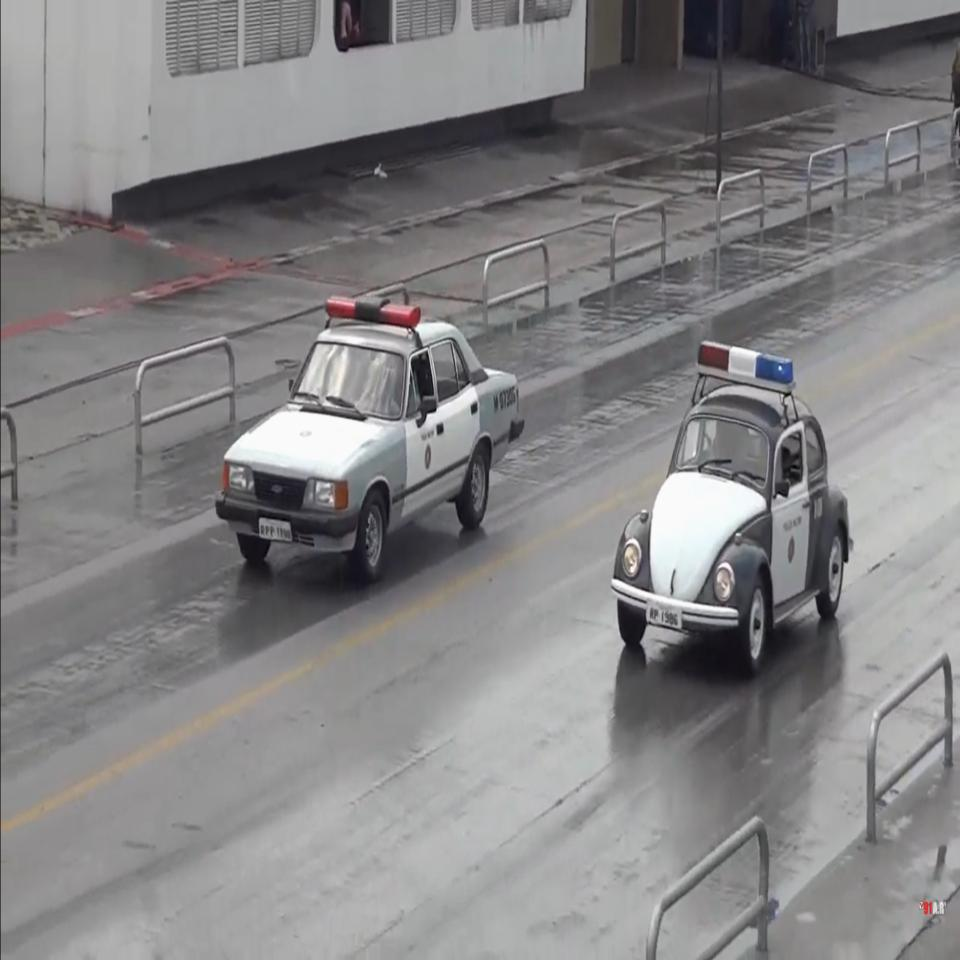viatura: (214, 292, 526, 586), (606, 337, 856, 673)
